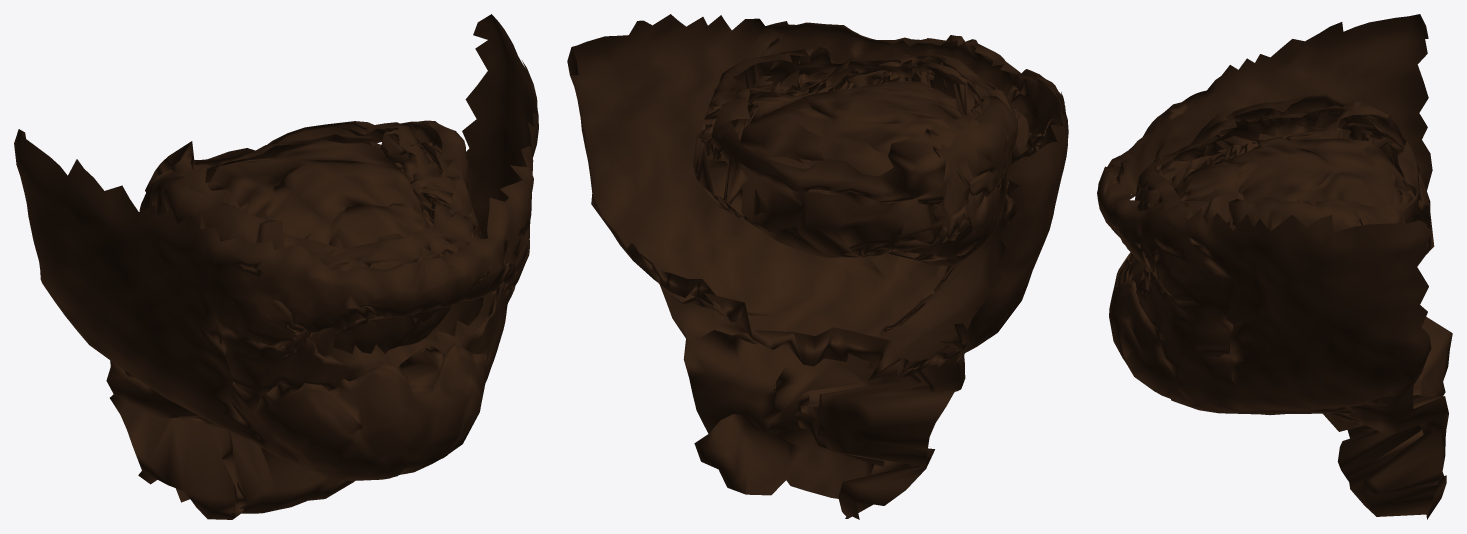
Rendered from kopf.bart.vollbart.glb.
3 renders of one model, left to right at view 1: azimuth 30°, elevation 25°; view 2: azimuth 150°, elevation 25°; view 3: azimuth 270°, elevation 25°, orthographic. The views are drawn at different scales.
Visible parts, largest first — view 1: bart; view 2: bart; view 3: bart.
Boxes of the visible parts, box(x1,y1,x2,y2) form: bart: box(14, 14, 538, 519); bart: box(567, 14, 1068, 519); bart: box(1097, 14, 1452, 519).
Size of the model in its own units: 0.1355 by 0.1141 by 0.0962.
